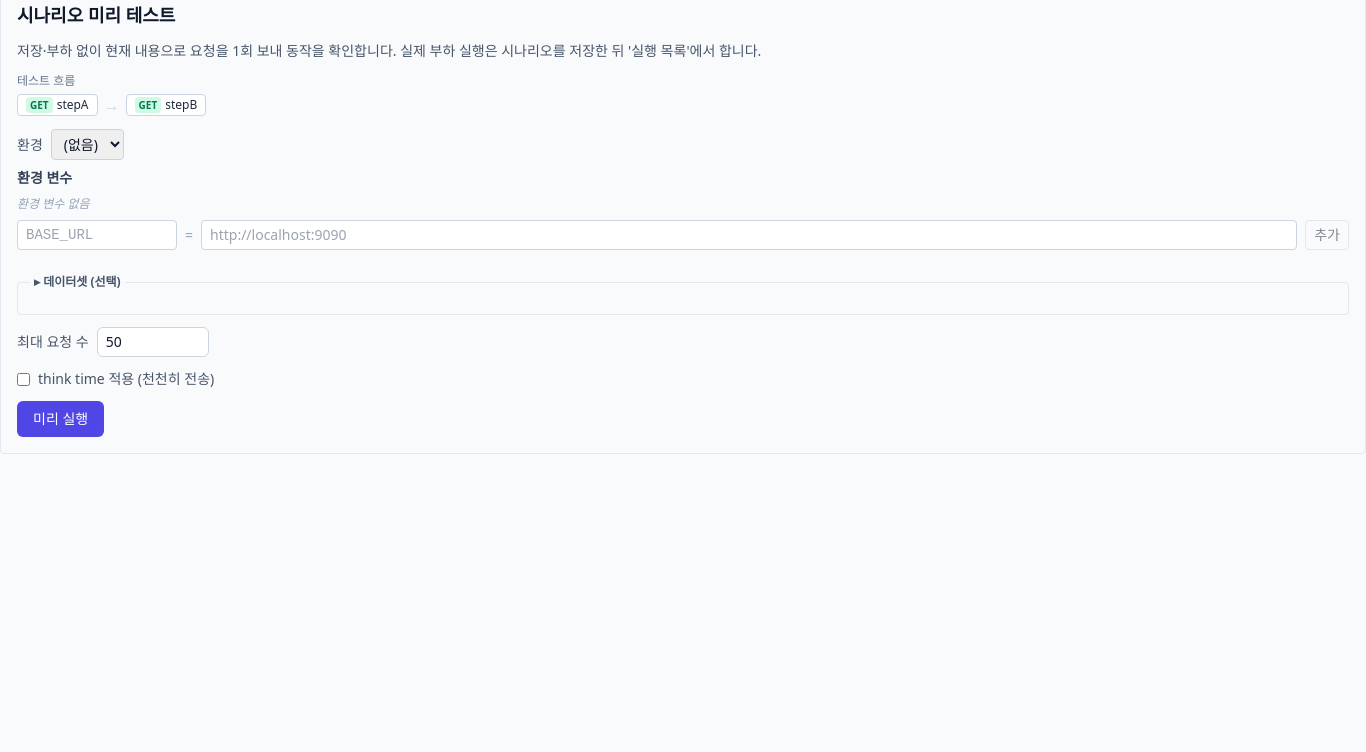
TestRunSection 데이터셋 섹션 (R11/R14/R15) › T6: sequential 성공(ok·!truncated) → 검증 기록 = verified (T4 리뷰 fold)
The width and height of the screenshot is (1366, 752).
Click the button "▸ 데이터셋 (선택)". click: (77, 282)
box: [34, 274, 121, 290]
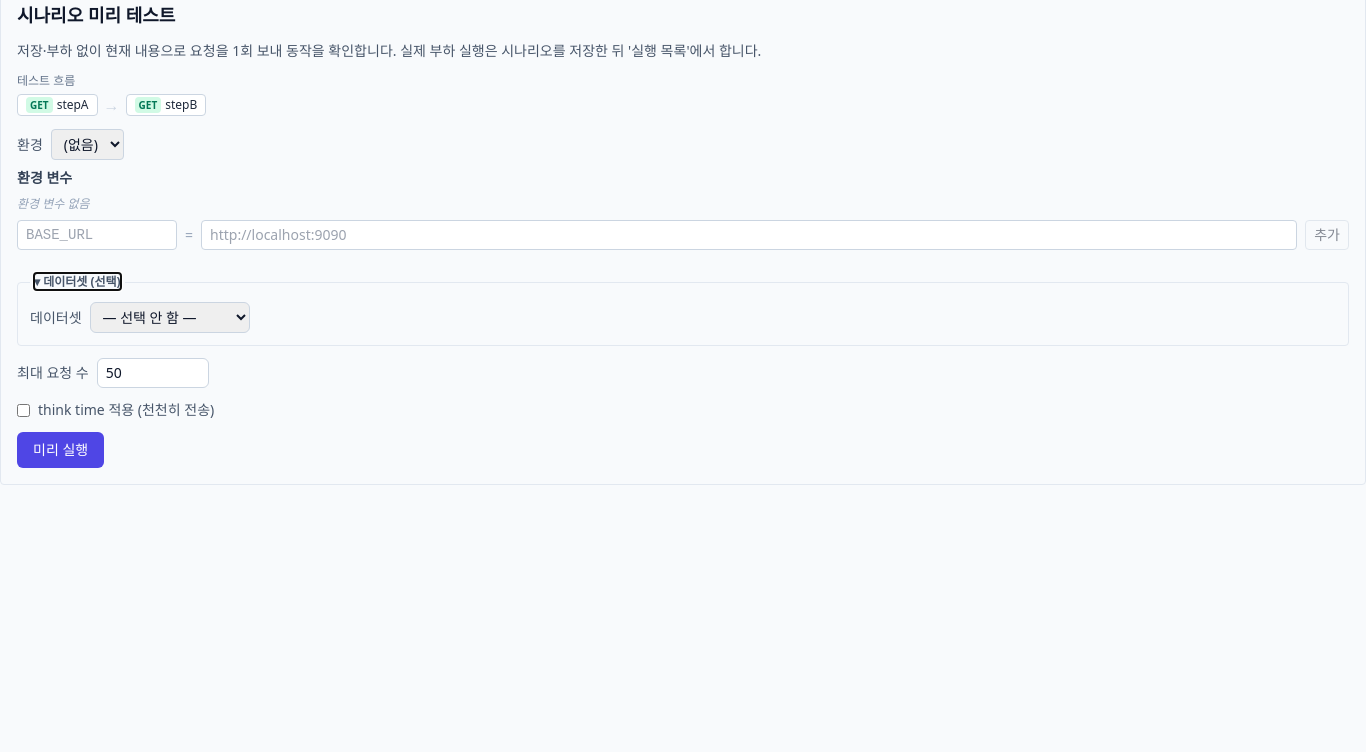
Select "users" in the dropdown named "데이터셋". click: (170, 318)
box: [90, 302, 250, 333]
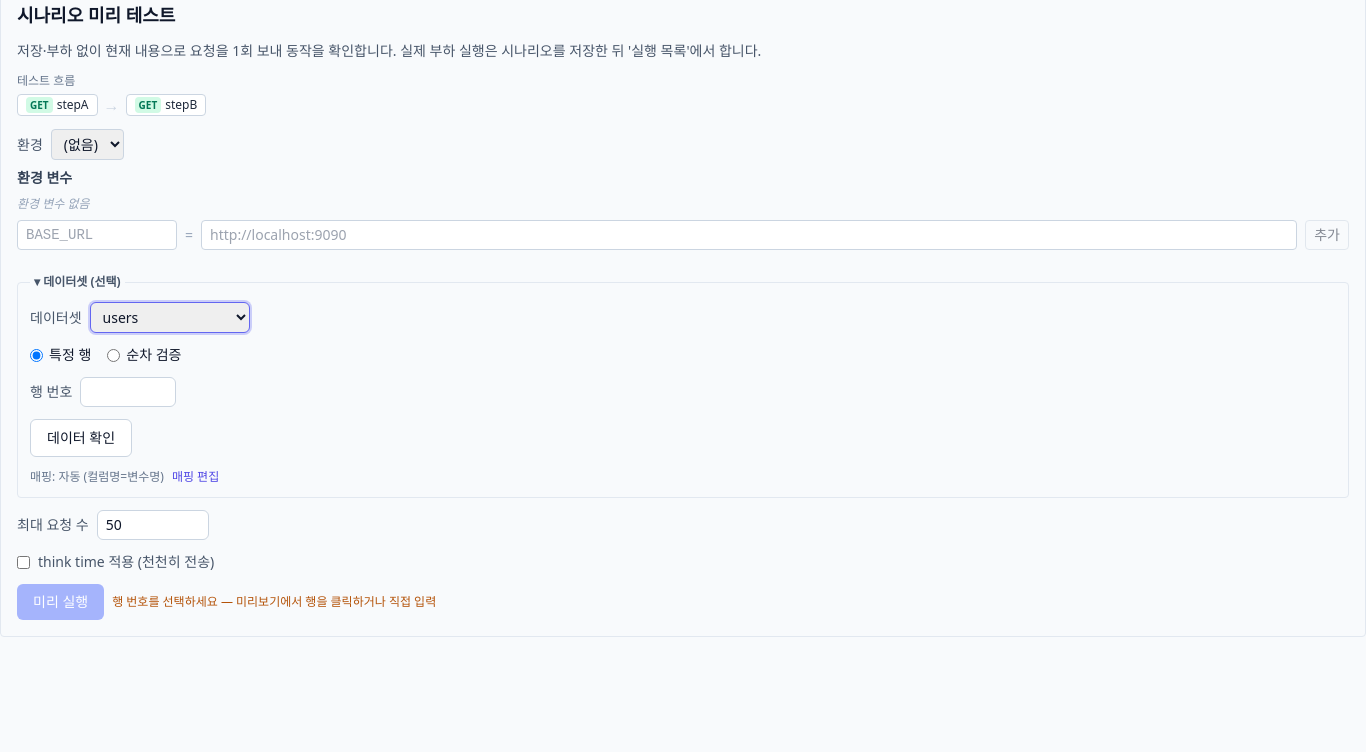
Click the radio button labelled "순차 검증". click: (114, 355)
box: [107, 348, 120, 362]
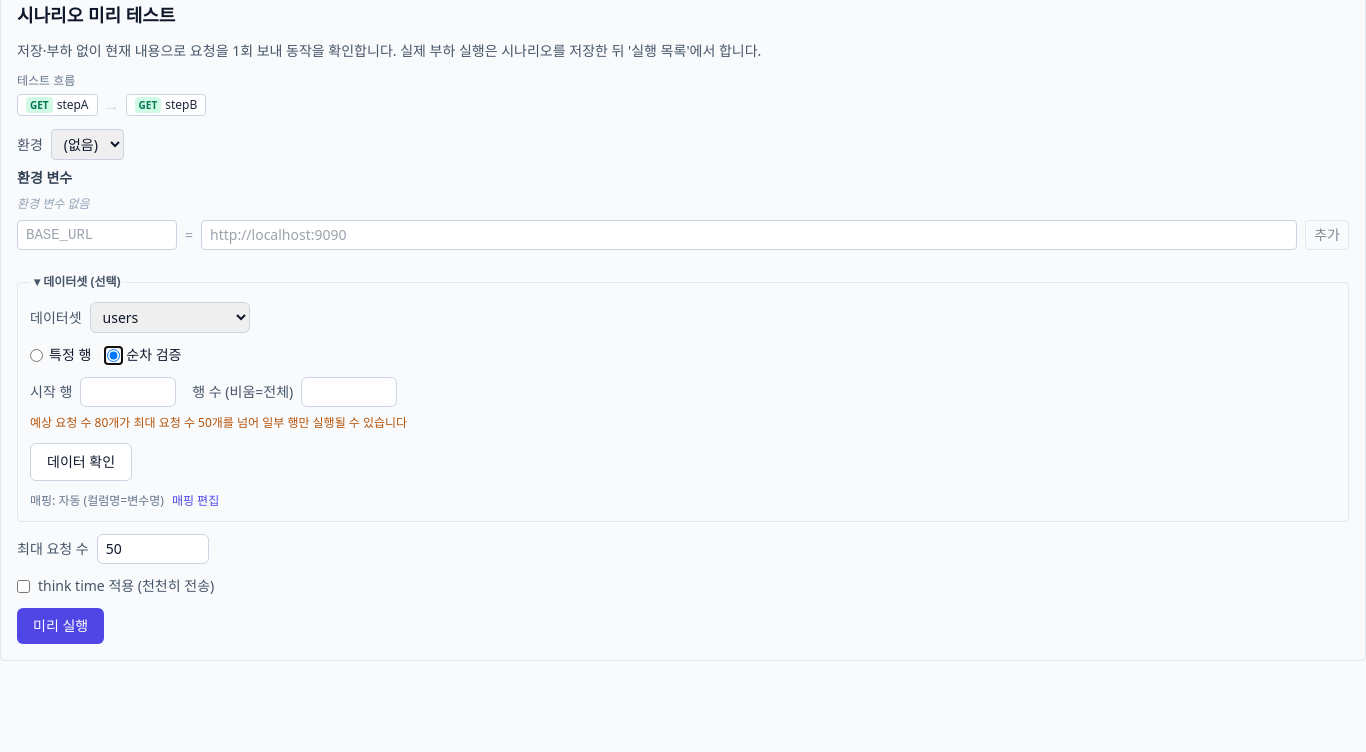
Click the button "미리 실행". click: (61, 626)
box: [17, 608, 104, 644]
(page scrolled)
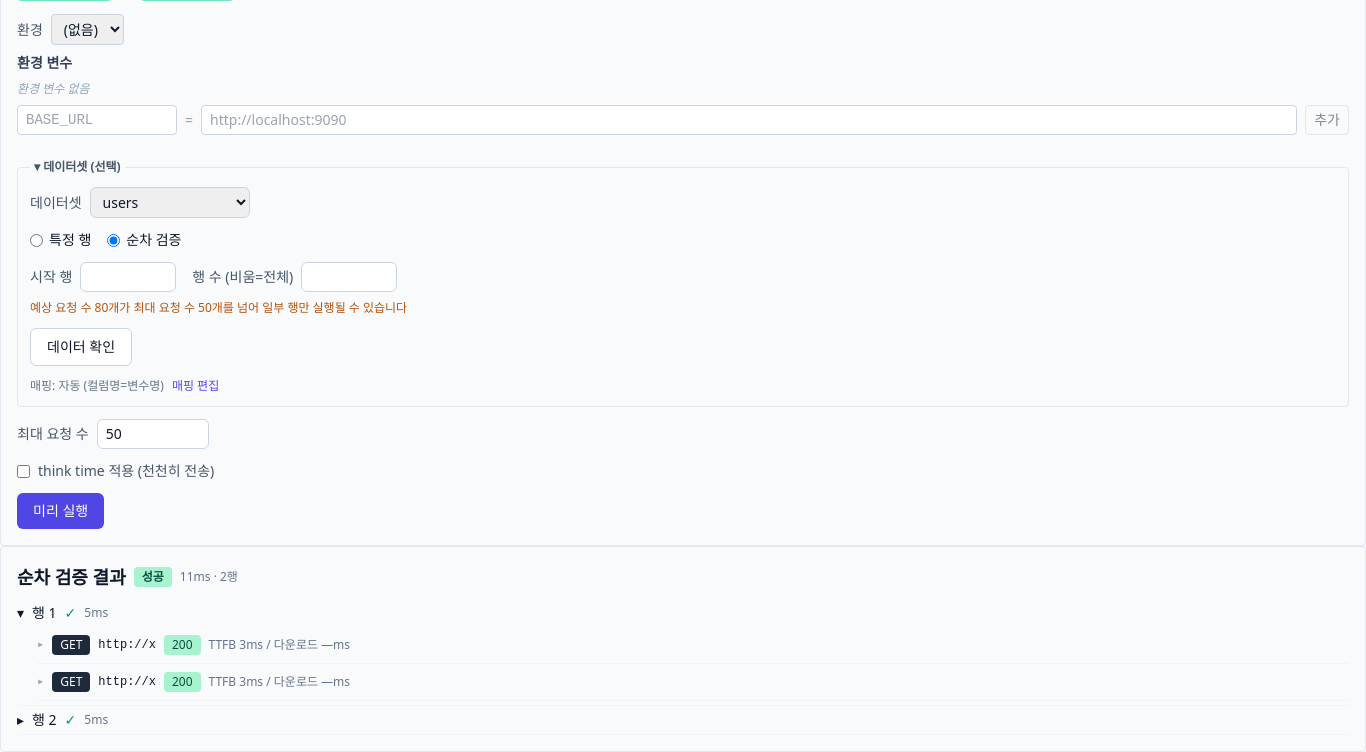
expect the element "순차 검증 결과" is shown: met, box [0, 546, 1365, 751]
